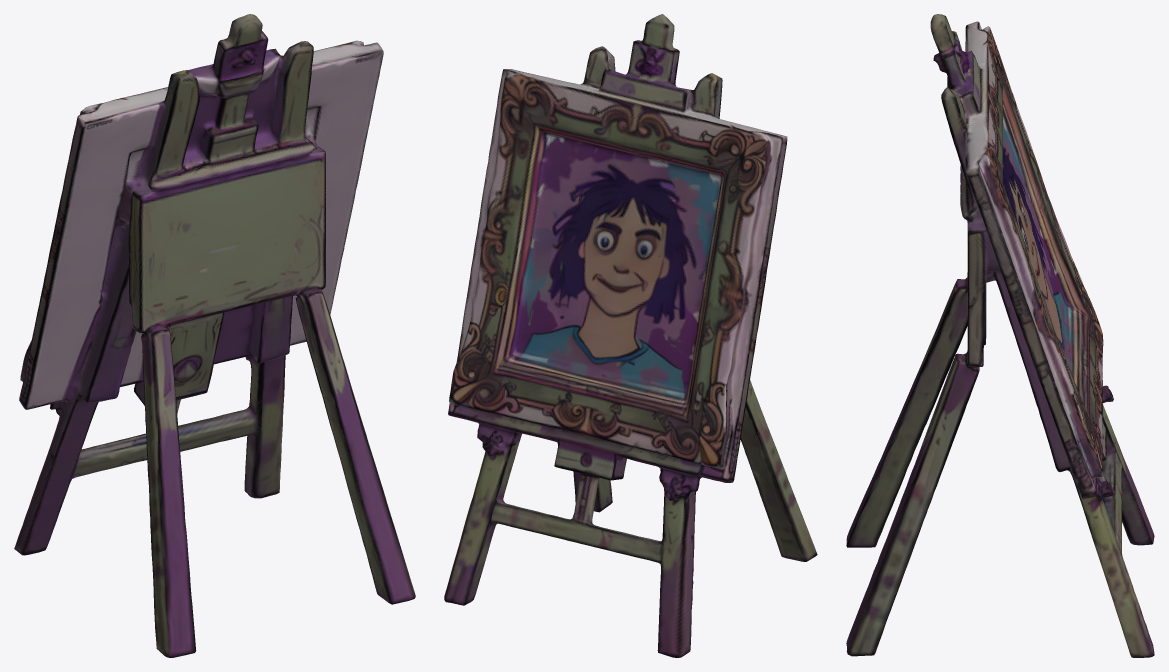
Rendered from replacement_portrait.glb.
3 renders of one model, left to right at view 1: azimuth 30°, elevation 25°; view 2: azimuth 150°, elevation 25°; view 3: azimuth 270°, elevation 25°, orthographic. The views are drawn at different scales.
Visible parts, largest first — view 1: Easel; view 2: Easel; view 3: Easel.
Part boxes in pixels (left/top/right/bottom): Easel: left=14, top=14, right=415, bottom=657; Easel: left=444, top=14, right=817, bottom=657; Easel: left=846, top=14, right=1154, bottom=657.
Bounding box in the file's own units: 0.7036 × 1.3 × 0.6244.
1 material, 1 textured.
